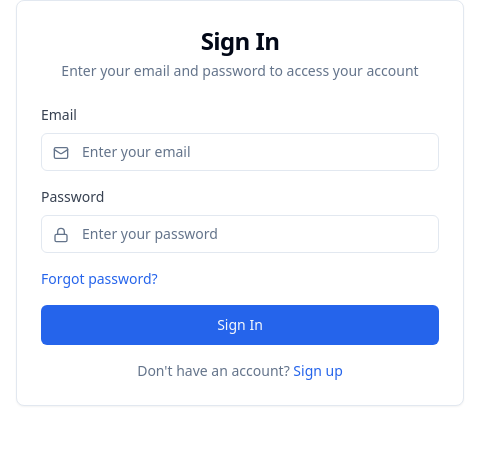
Test: SignInForm Security › Email Input Security › should handle javascript protocol in email
Type "javascript:alert(\"xss\")@example.com" into the field labelled "Email" at (240, 152), box left=41, top=133, right=439, bottom=171
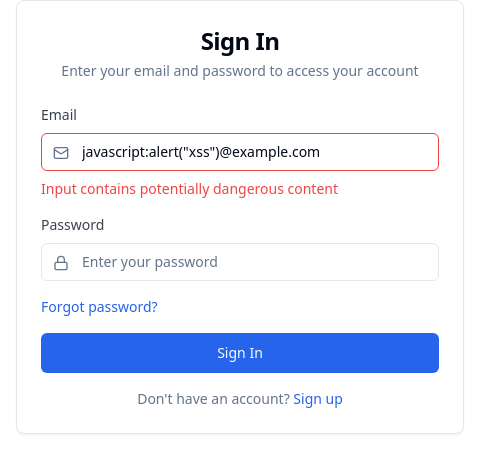
Expected: the text "Input contains potentially dangerous content" is shown, left=41, top=179, right=338, bottom=198
